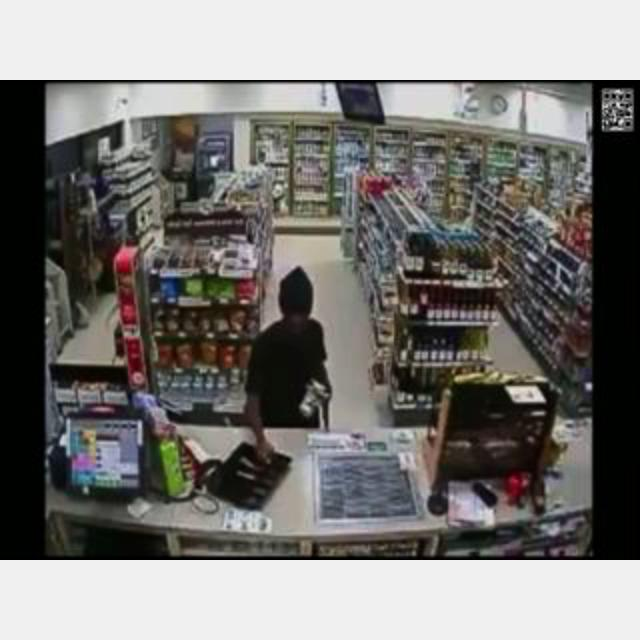criminal: (242, 264, 334, 464)
weapon: (319, 391, 331, 433)
